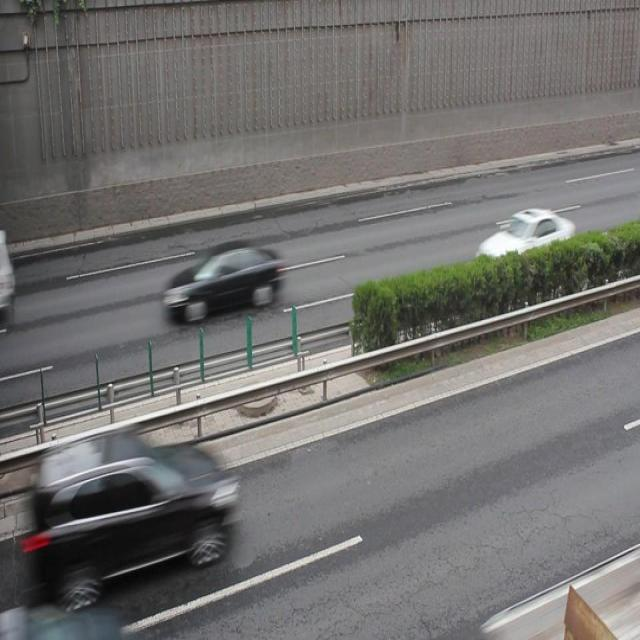bus: (485, 550, 640, 640)
car: (34, 430, 234, 602), (160, 237, 283, 318), (473, 208, 573, 281)
